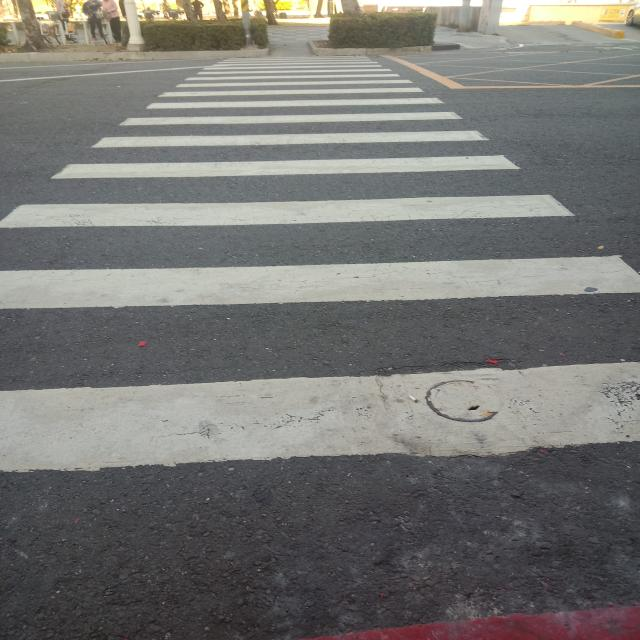zebra_crossing: (0, 61, 640, 464)
